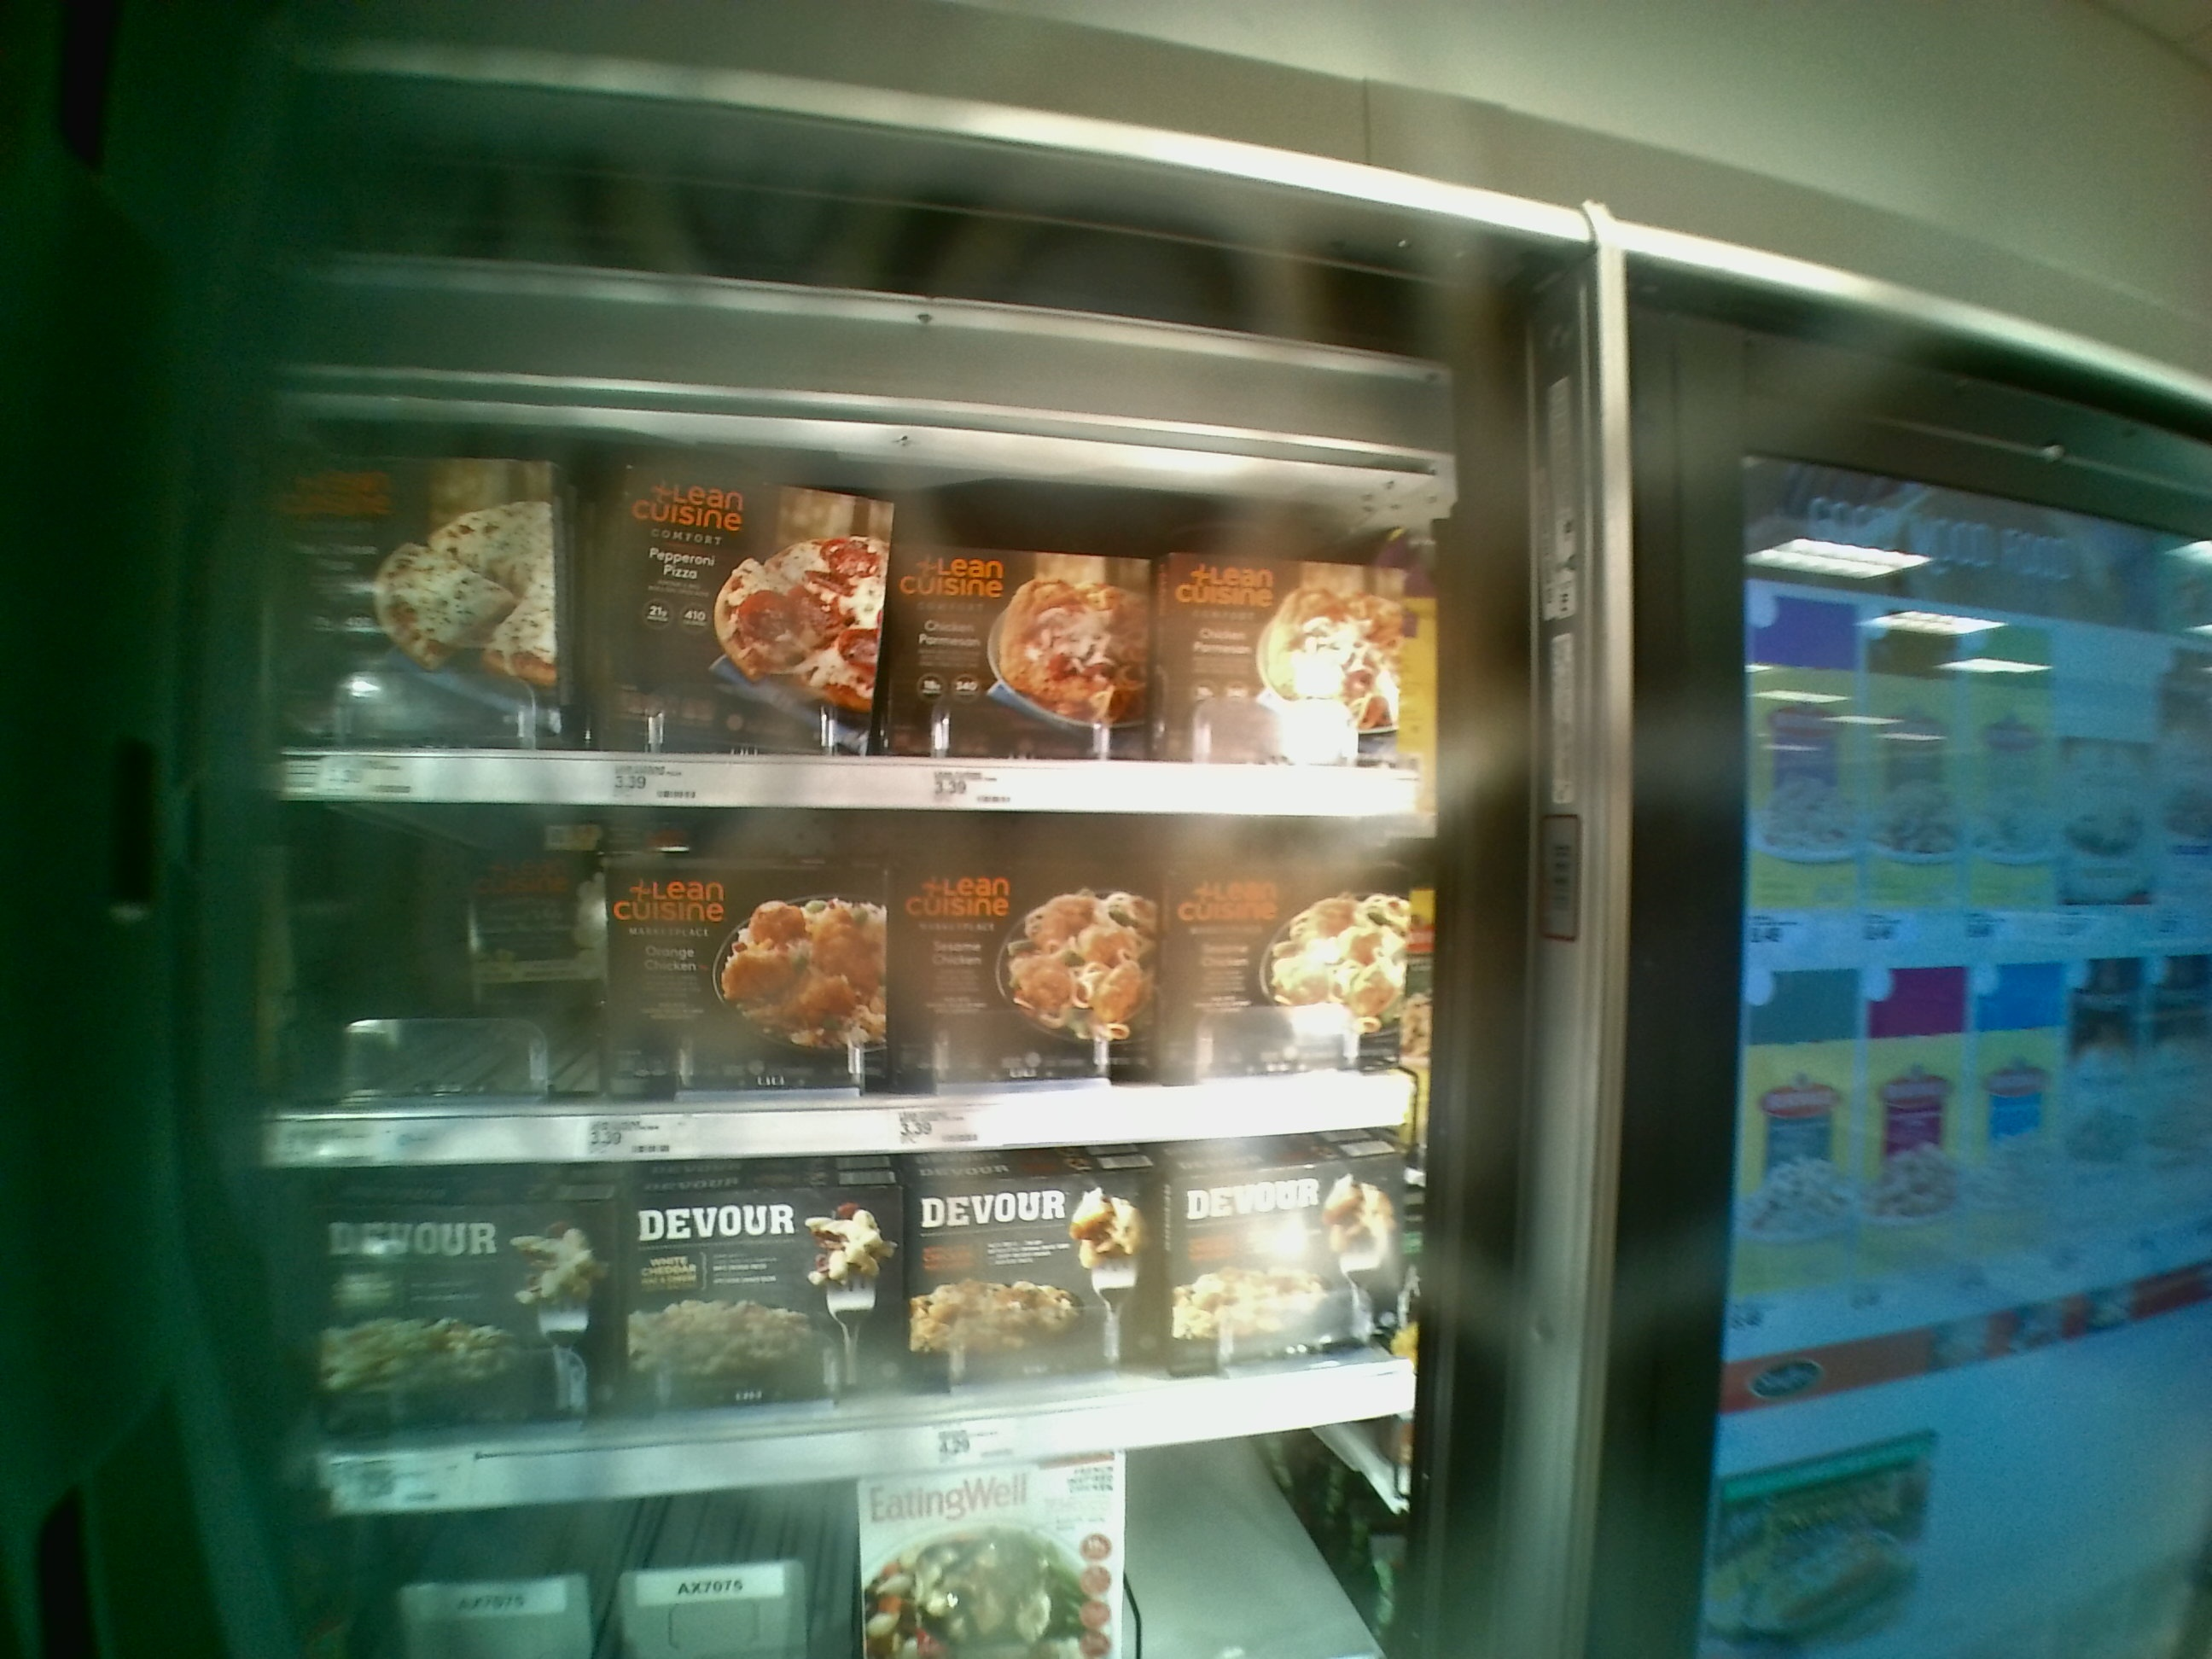Shelf: (256, 380, 1428, 814), (268, 1122, 1430, 1525), (268, 793, 1433, 1150)
